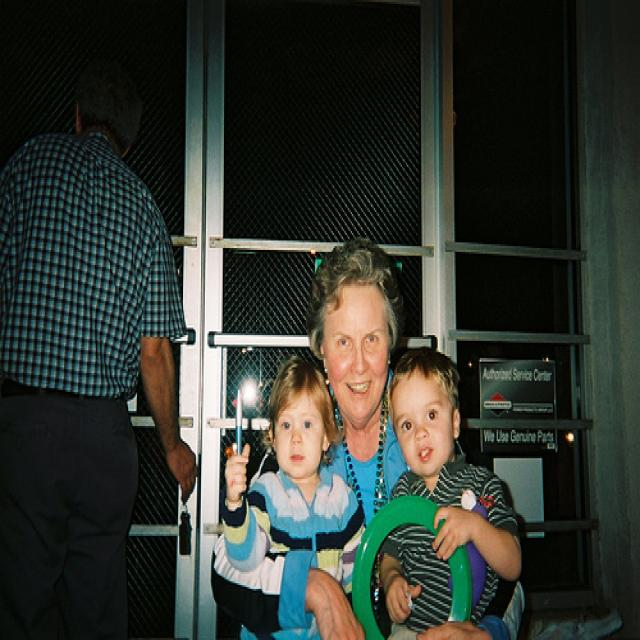person: (1, 58, 201, 639), (297, 238, 440, 639), (385, 344, 521, 639), (225, 355, 366, 639)
